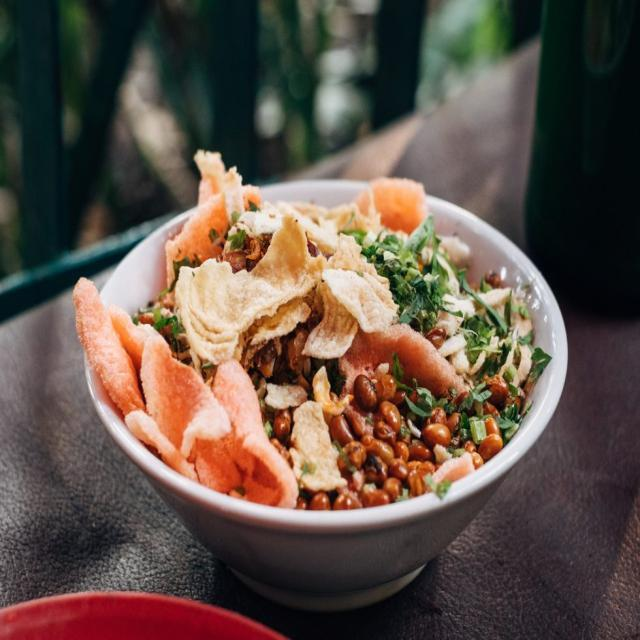bubur ayam: (128, 208, 546, 507)
mangkuk: (77, 170, 568, 612), (1, 592, 288, 640)
